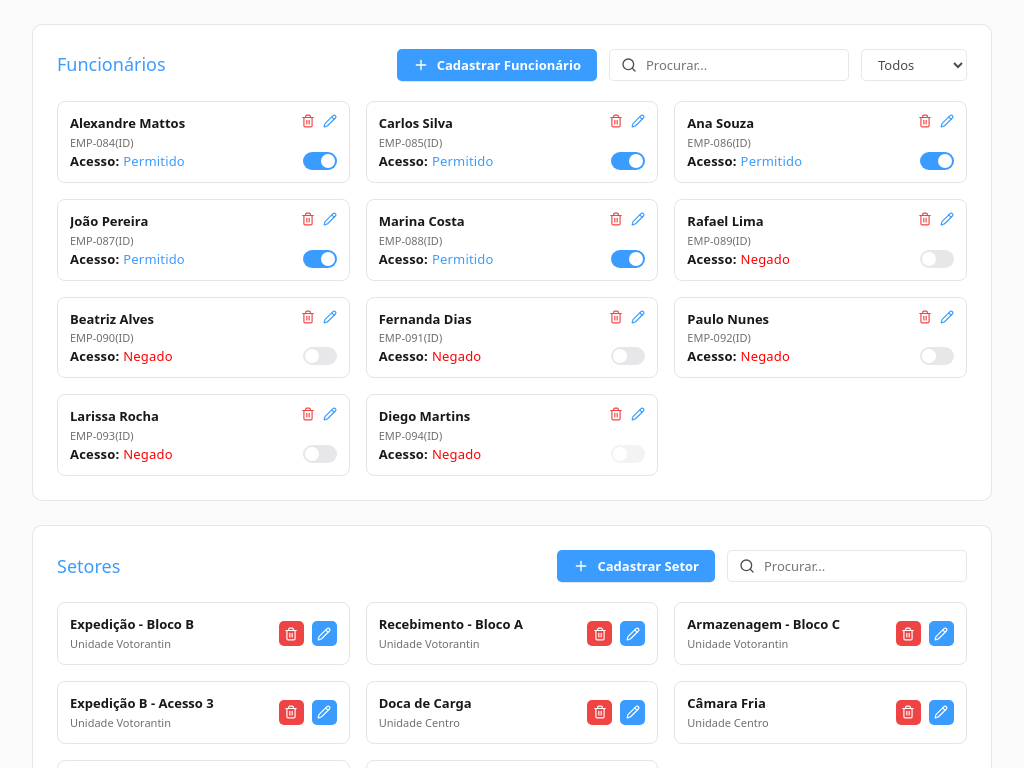
Scenario: EquipePage: create, edit and details › edits an employee in place and keeps the active search
Expected: the heading "Funcionários" is shown, [57,54,166,76]
Type "alexandre" into the search field named "Funcionários" at (729, 65), box [609,49,849,81]
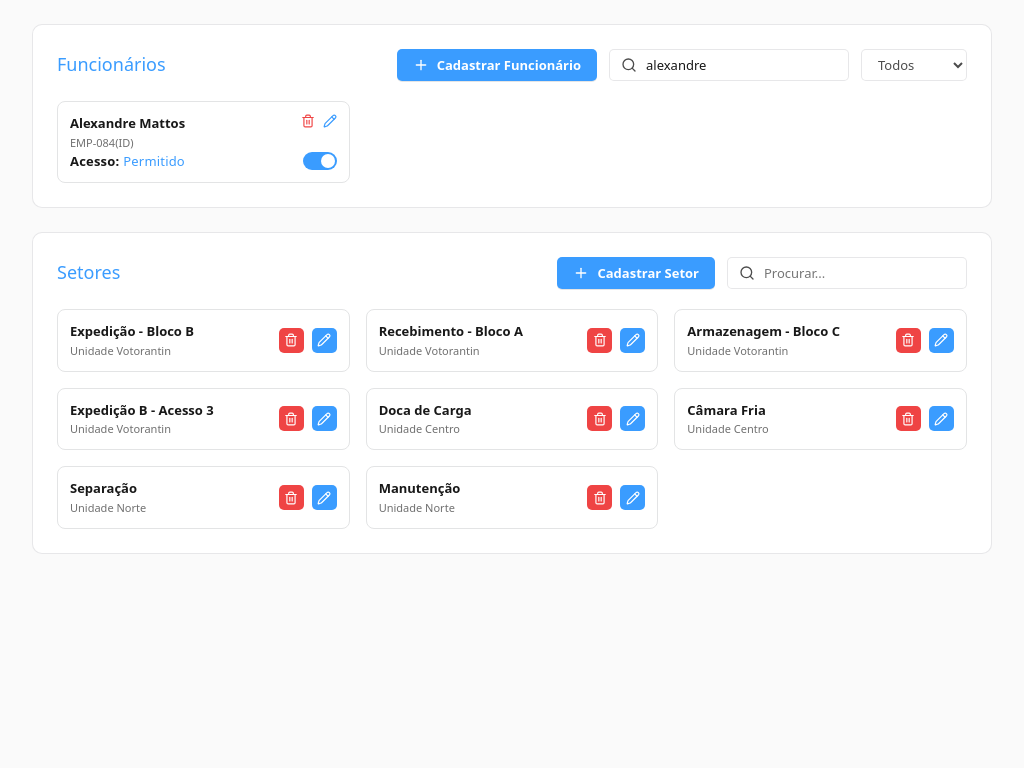
Click the button named "Editar Alexandre Mattos" at (330, 121), box [323,114,337,128]
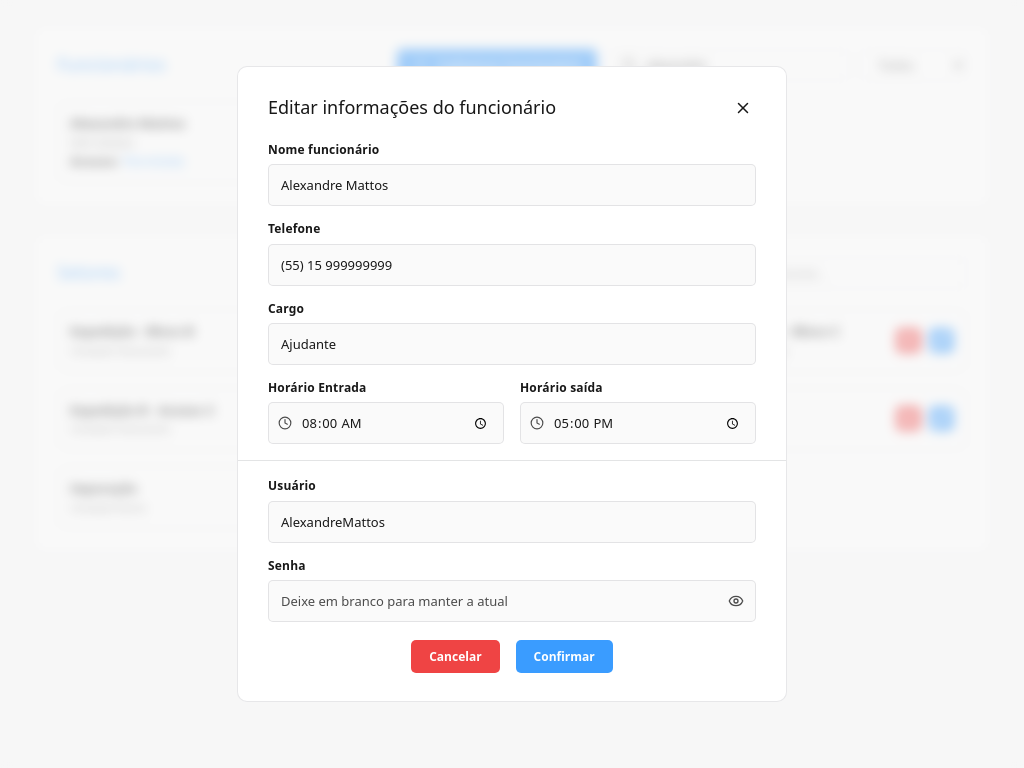
Expected: the dialog "Editar informações do funcionário" is shown, [237,66,787,702]
Replace the text in the field labelled "Cargo" with "Supervisor" at (512, 344), box [268,323,756,365]
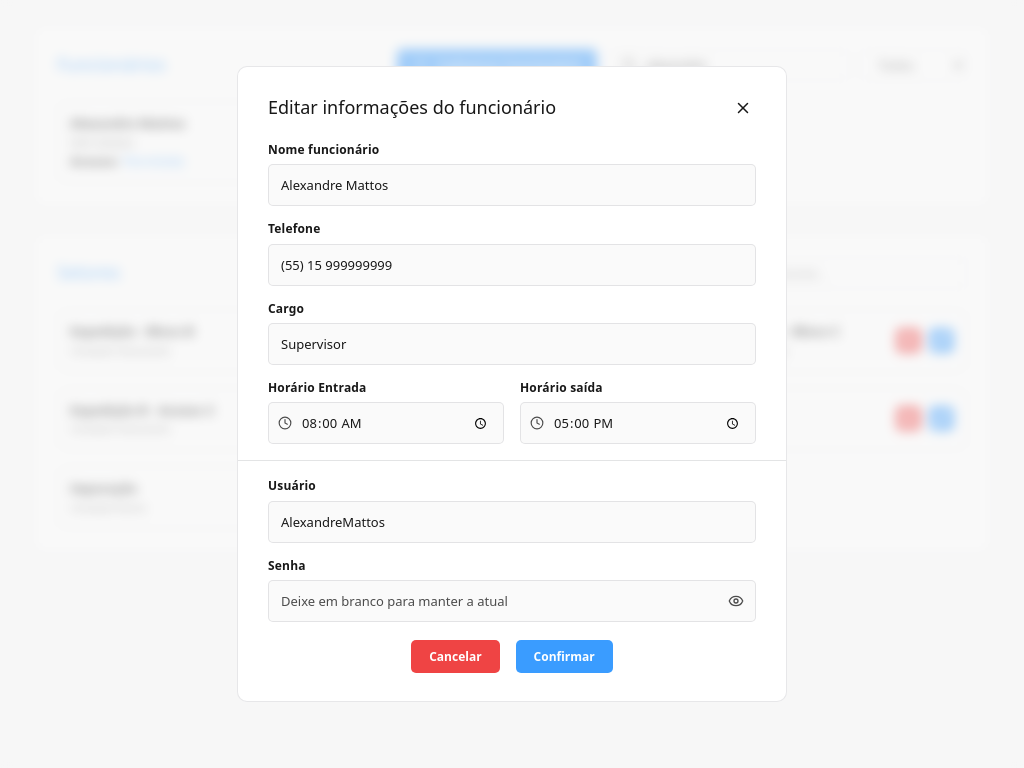
Click the button "Confirmar" at (564, 657), box [516,640,613,673]
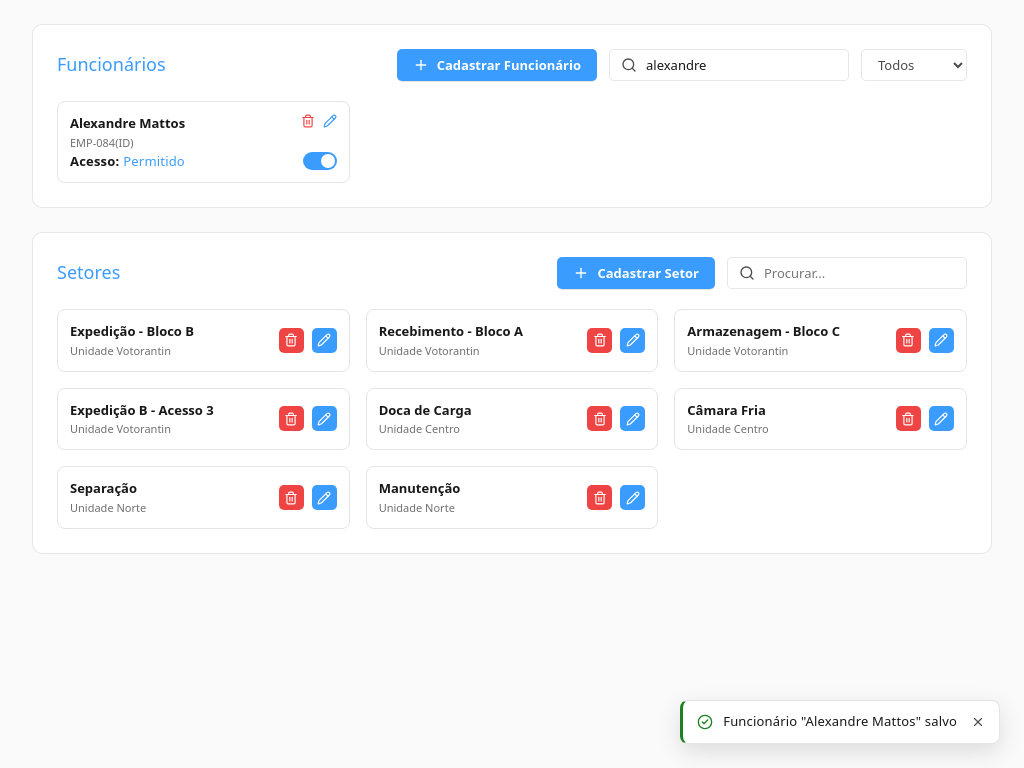
Expected: the text "Alexandre Mattos" is shown, [70,114,185,133]
Expected: the number of switches is 1, [303,152,337,170]
Expected: the dialog is gone
Click the button with aria-label "Ver detalhes de Alexandre Mattos" at (181, 132), box [70,114,293,151]
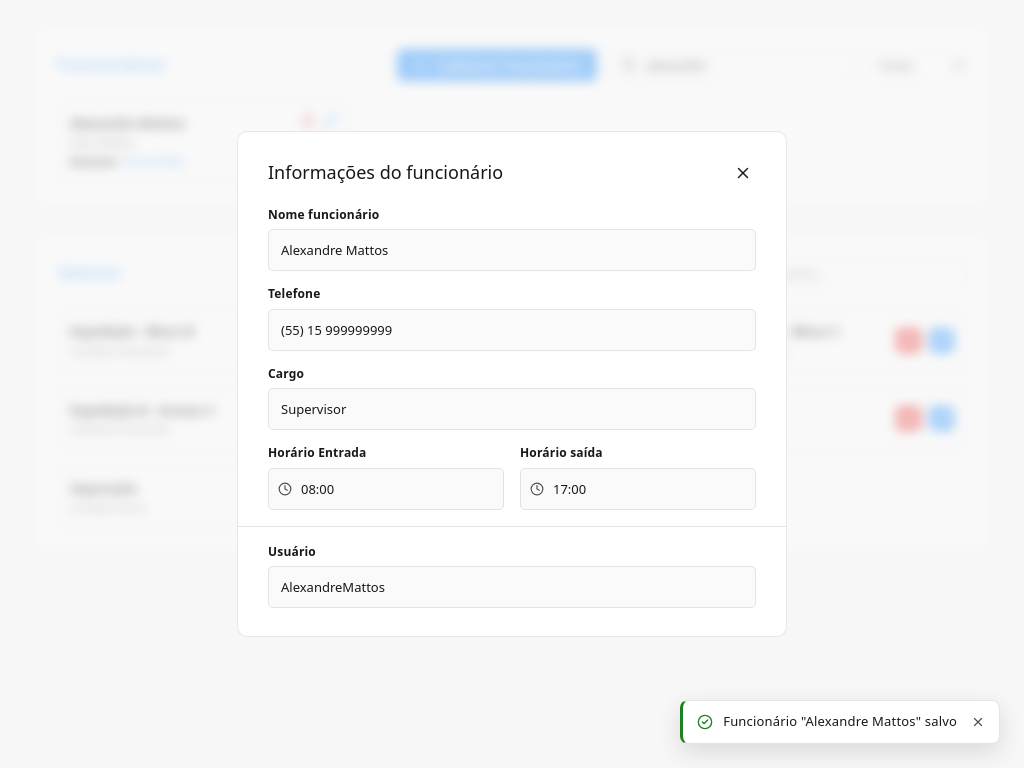
Expected: the field labelled "Cargo" holds "Supervisor", [268,388,756,430]
